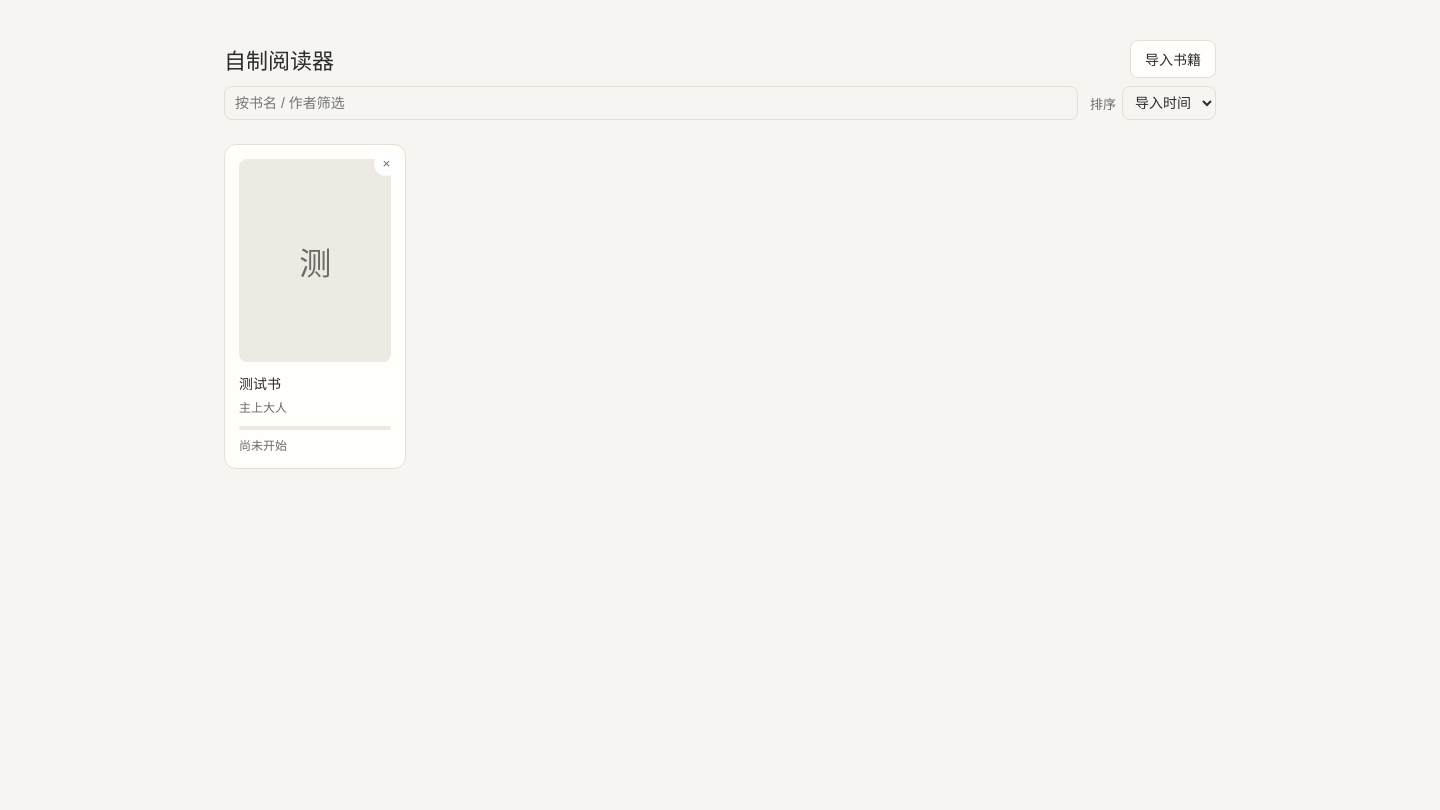
书库：移除书籍有确认、且可撤销 › 点 × 只弹确认框，不再一键直删
What coordinates should you click on to do the following:
click the button named "移除《测试书》"
I would click on:
 (386, 164)
Its box is [374, 152, 398, 176].
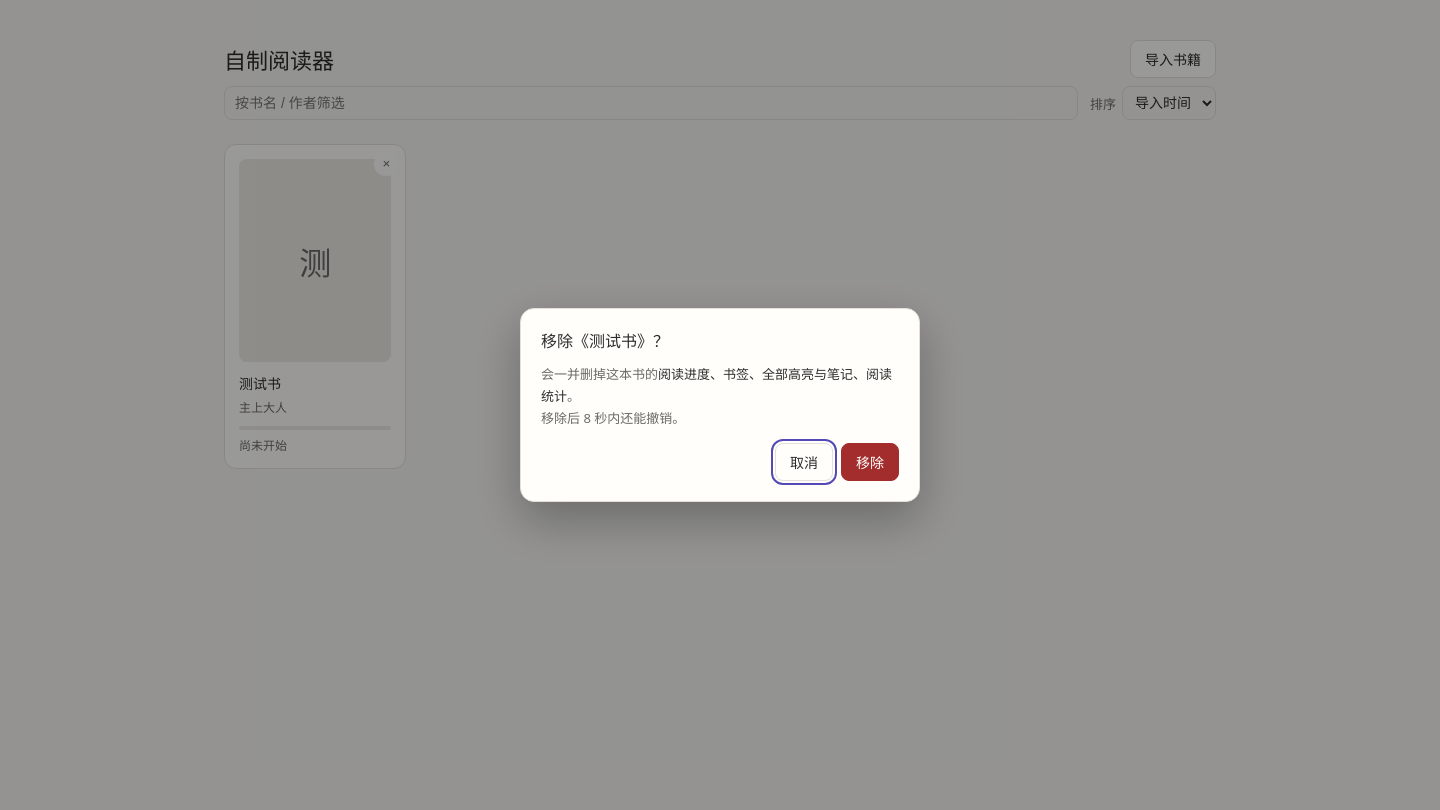
Expected: the dialog is shown, [520, 308, 920, 502]
Expected: the heading "移除《测试书》？" is shown, [541, 330, 669, 352]
